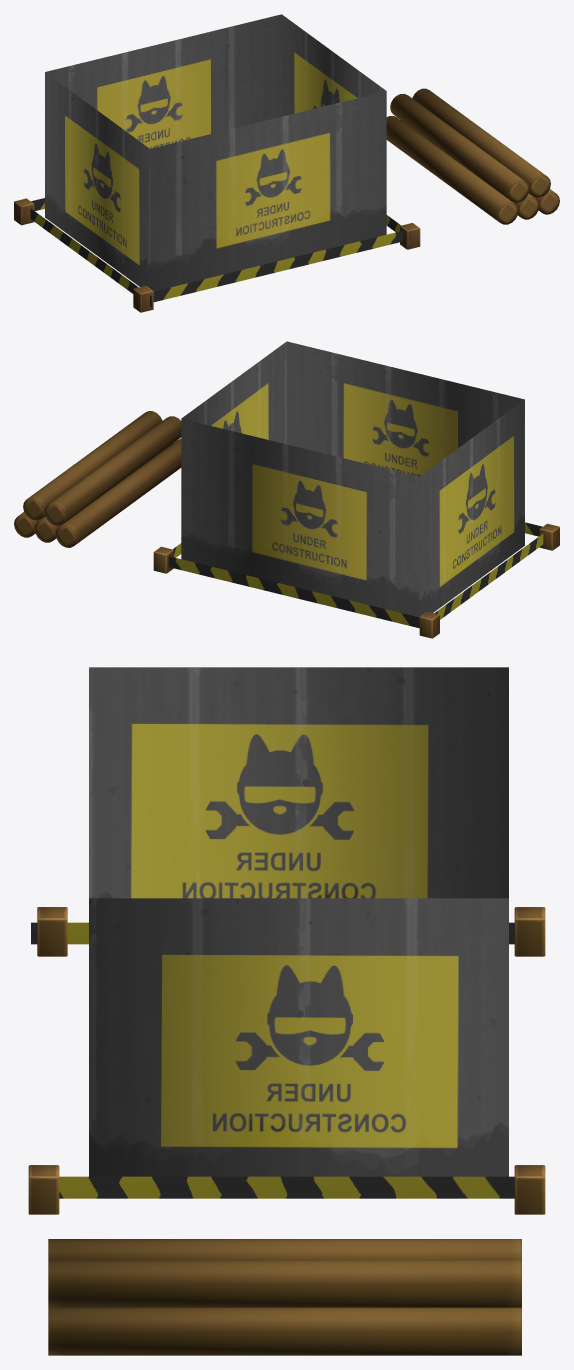
The model's file is building_asset.fbx.
The picture shows the model from 3 angles, top to bottom: view 1: azimuth 30°, elevation 25°; view 2: azimuth 150°, elevation 25°; view 3: azimuth 270°, elevation 25°; orthographic projection. The views are drawn at different scales.
Parts seen in each view (by area): view 1: Cube.002, Cylinder.003, Plane.002, Plane.003, Cube.004, Cube.001, Cube.003; view 2: Cube.002, Cylinder.003, Plane.001, Plane.003, Cube.003, Cube.004, Cube; view 3: Cube.002, Cylinder.003, Plane, Cube, Cube.001, Cube.003, Cube.004.
Part boxes in pixels (x1,y1,x2,y2): Cube.002: [45, 14, 386, 291]; Cylinder.003: [386, 88, 559, 224]; Plane.002: [153, 230, 403, 302]; Plane.003: [30, 208, 151, 307]; Cube.004: [133, 286, 153, 312]; Cube.001: [400, 223, 420, 249]; Cube.003: [14, 198, 34, 225]; Cube.002: [181, 341, 524, 617]; Cylinder.003: [14, 411, 181, 547]; Plane.001: [168, 556, 419, 628]; Plane.003: [434, 534, 543, 619]; Cube.003: [419, 611, 439, 638]; Cube.004: [539, 523, 559, 550]; Cube: [153, 546, 173, 573]; Cube.002: [89, 667, 508, 1176]; Cylinder.003: [48, 1239, 521, 1355]; Plane: [59, 1176, 514, 1198]; Cube: [514, 1165, 545, 1214]; Cube.001: [28, 1165, 59, 1214]; Cube.003: [514, 907, 545, 956]; Cube.004: [37, 907, 67, 956].
Size of the model in its own units: 3643 by 1263 by 1931.
Materials: 1 (1 with a texture image).
